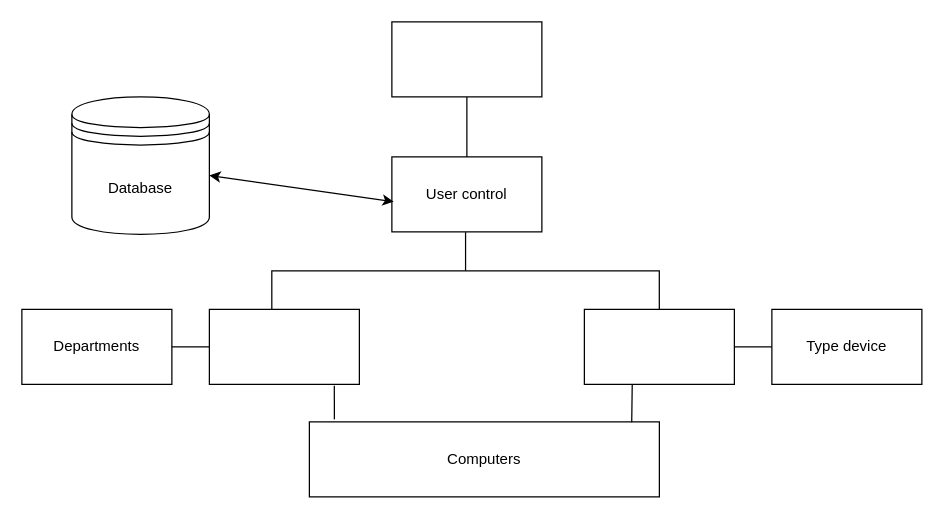
Some shapes in this 944 by 519 pixel diagram are drawn without their labels. The shapes that lost their labels are listed below. From the top down, each one's centre as x and y in pixels, then its label:
(x=466, y=59): Interface
(x=283, y=346): Users
(x=658, y=346): Device
